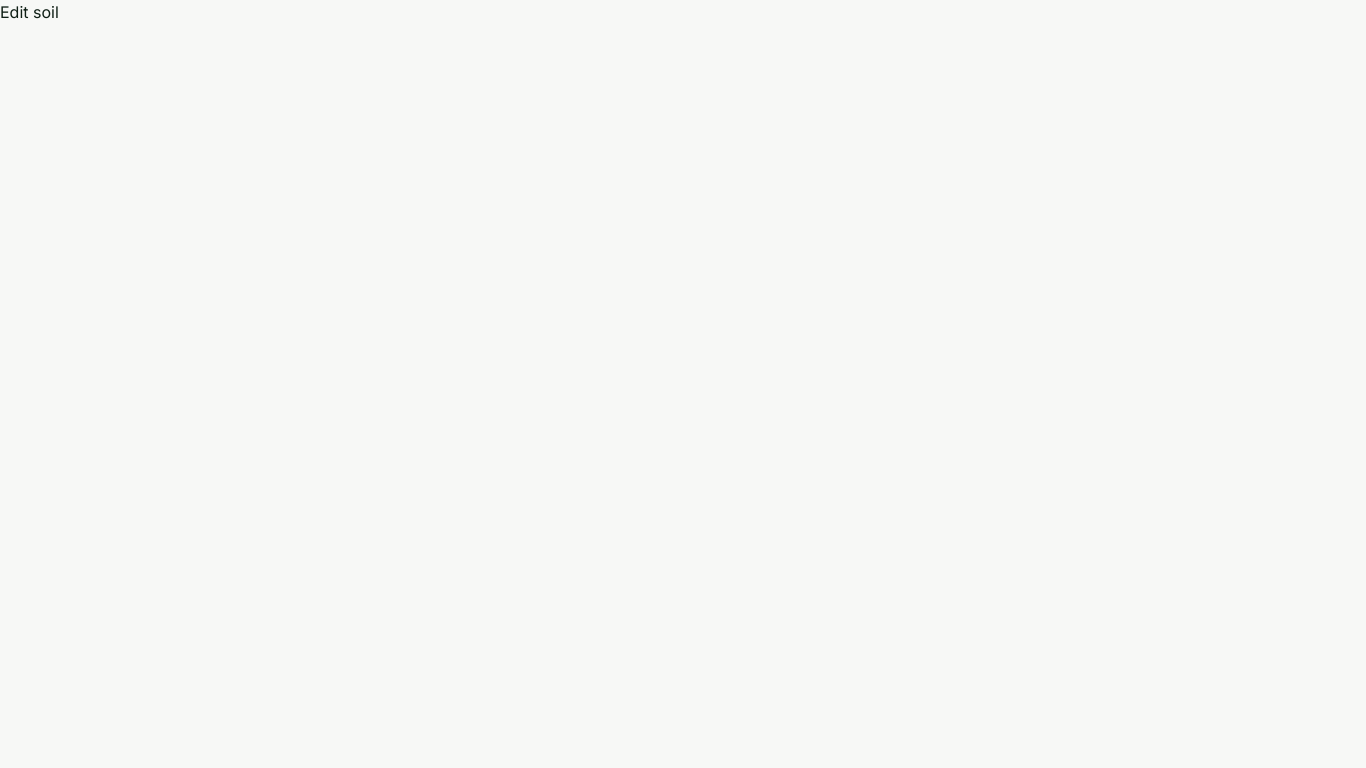
Test: soil editor freshness › re-reads the profile each time it opens, inside the cache window
Click the button "Edit soil".
click(29, 12)  # box [0,0,59,24]
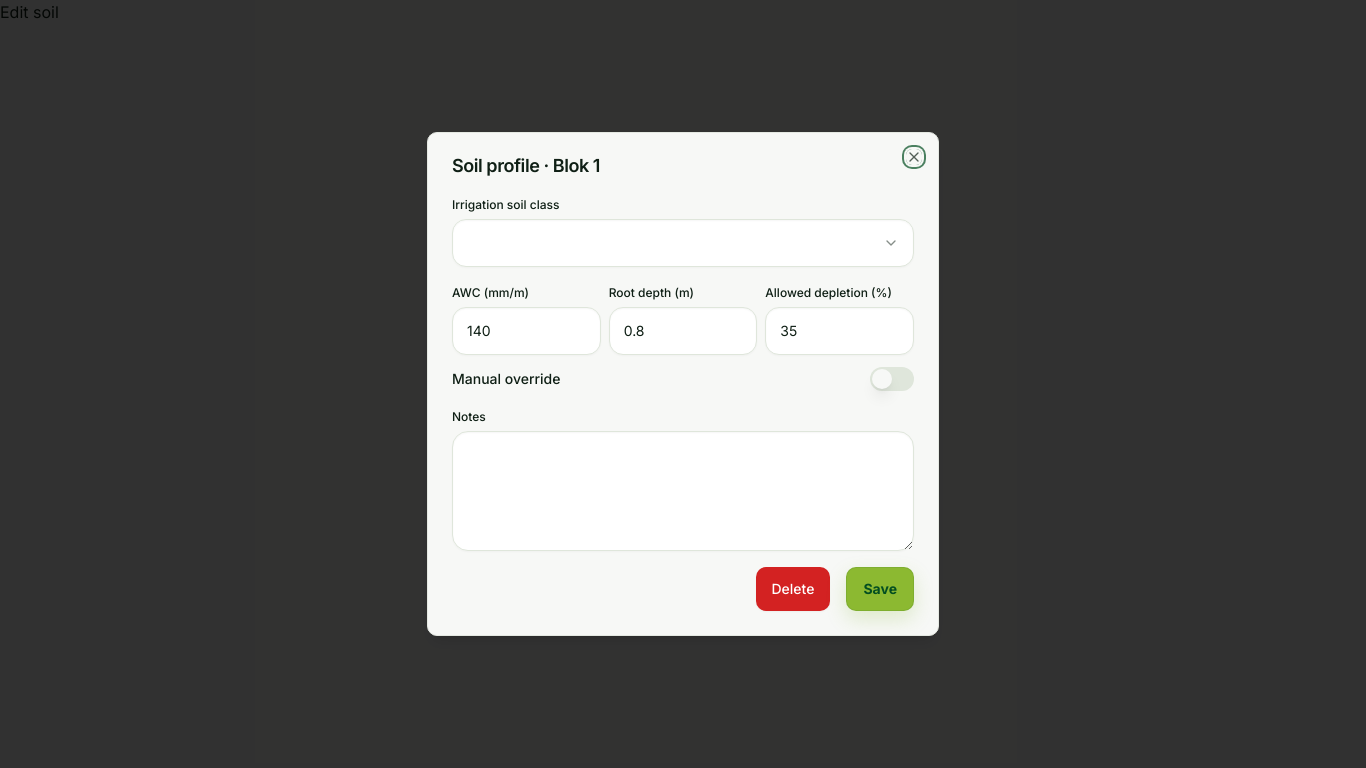
Result: the number field below "AWC (mm/m)" holds "140" at [452,307,601,355]
Press Escape
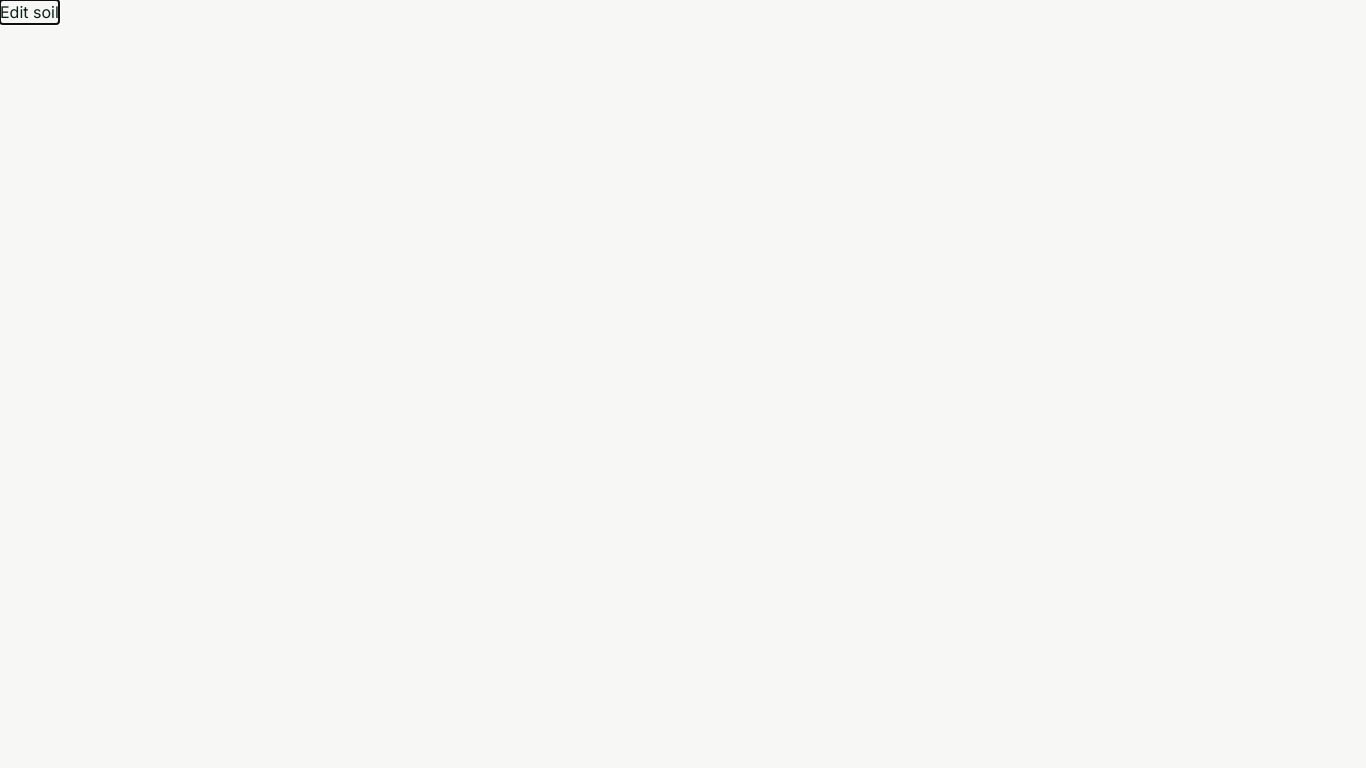
Click the button "Edit soil".
click(29, 12)  # box [0,0,59,24]
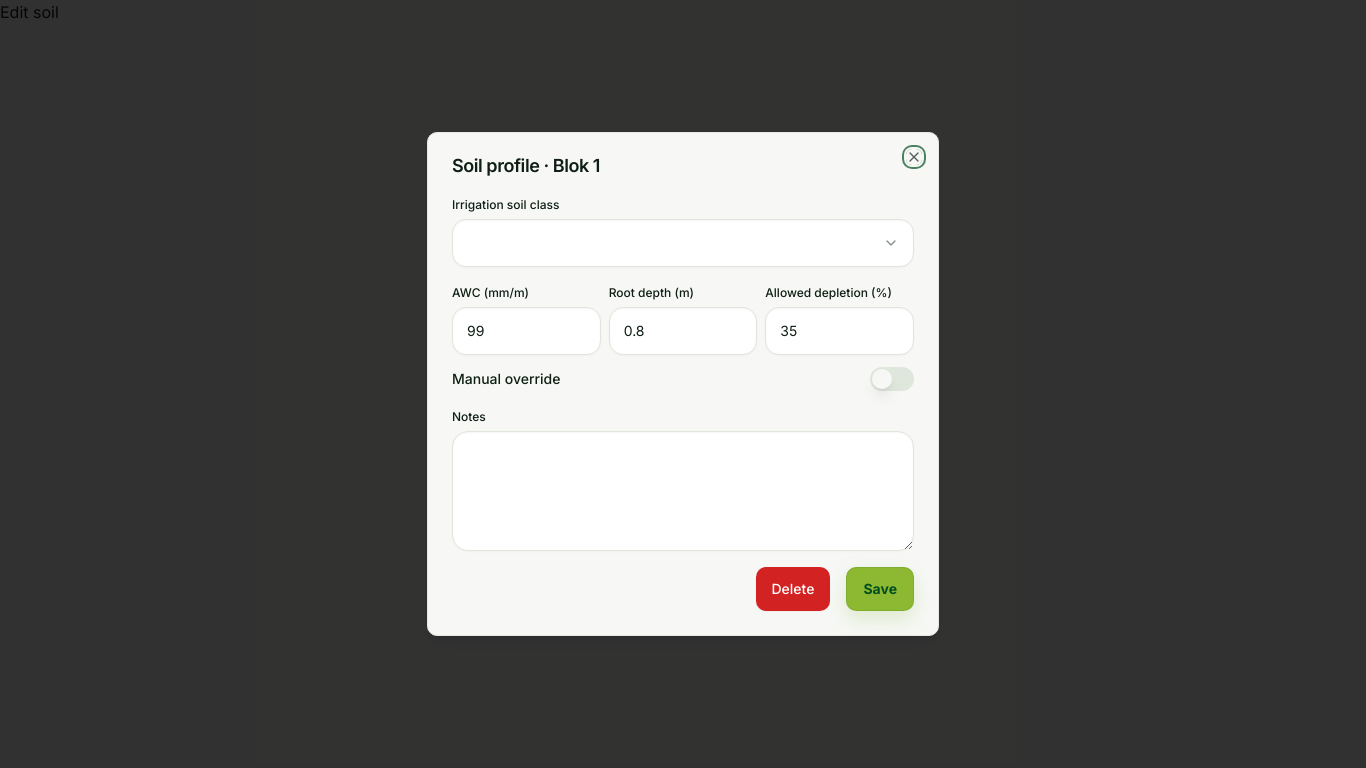
Result: the number field below "AWC (mm/m)" holds "99" at [452,307,601,355]
